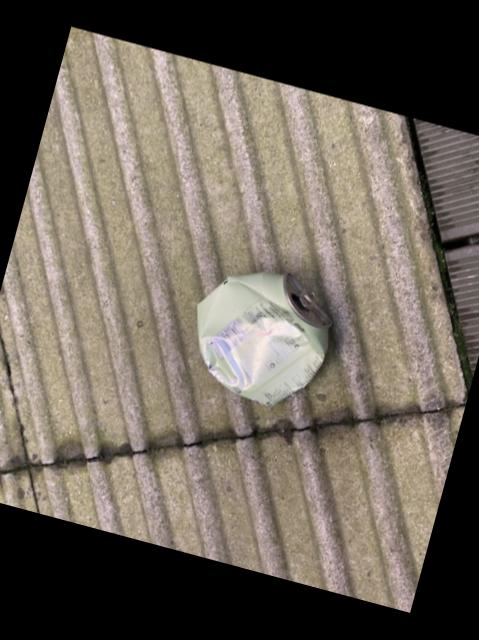metal: (194, 270, 328, 404)
